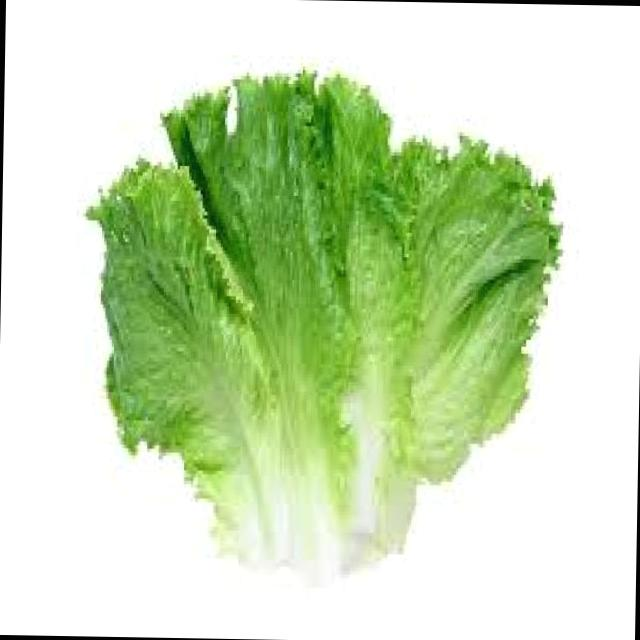Lettuce-Ready-to-Harvest: (91, 72, 557, 582)
